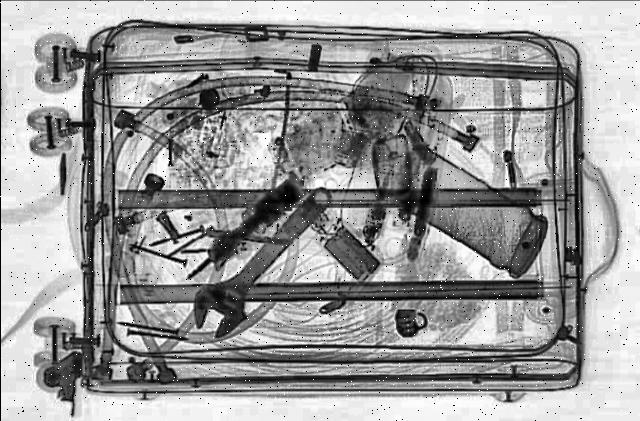Wrench: (167, 179, 349, 339)
